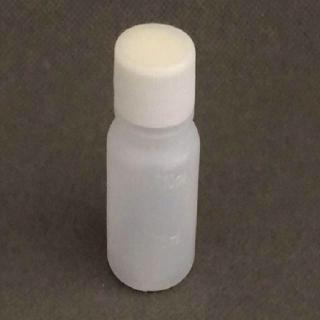Plastic-bottle: (103, 19, 203, 296)
